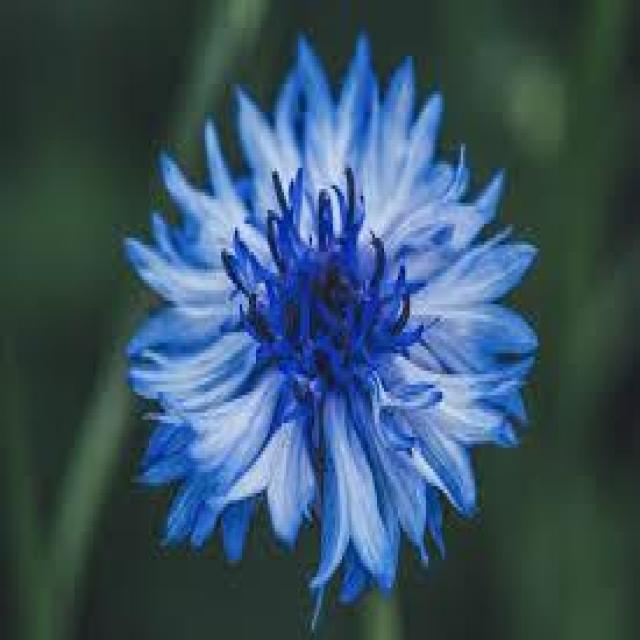organic waste: (121, 52, 547, 574)
